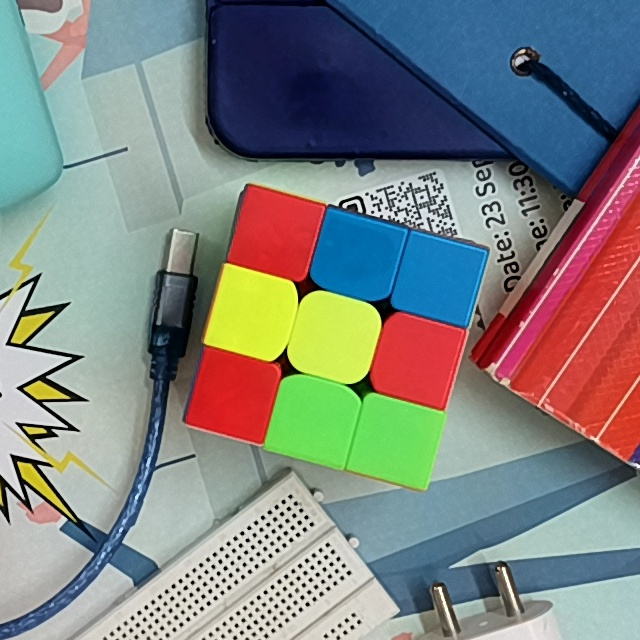tile: (203, 364, 264, 428), (305, 303, 367, 365), (222, 282, 284, 343), (365, 411, 428, 471), (408, 249, 468, 311), (387, 326, 447, 388), (284, 388, 344, 449), (327, 226, 388, 285), (245, 208, 307, 263)
